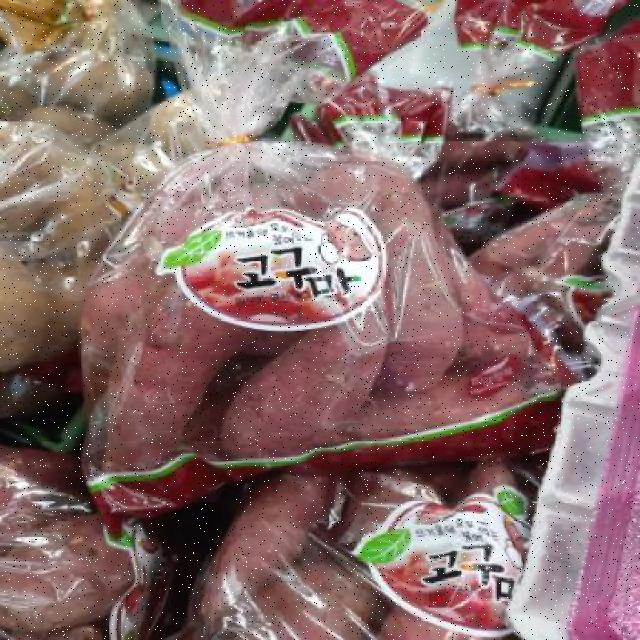Sweet Potato: (43, 24, 639, 487)
